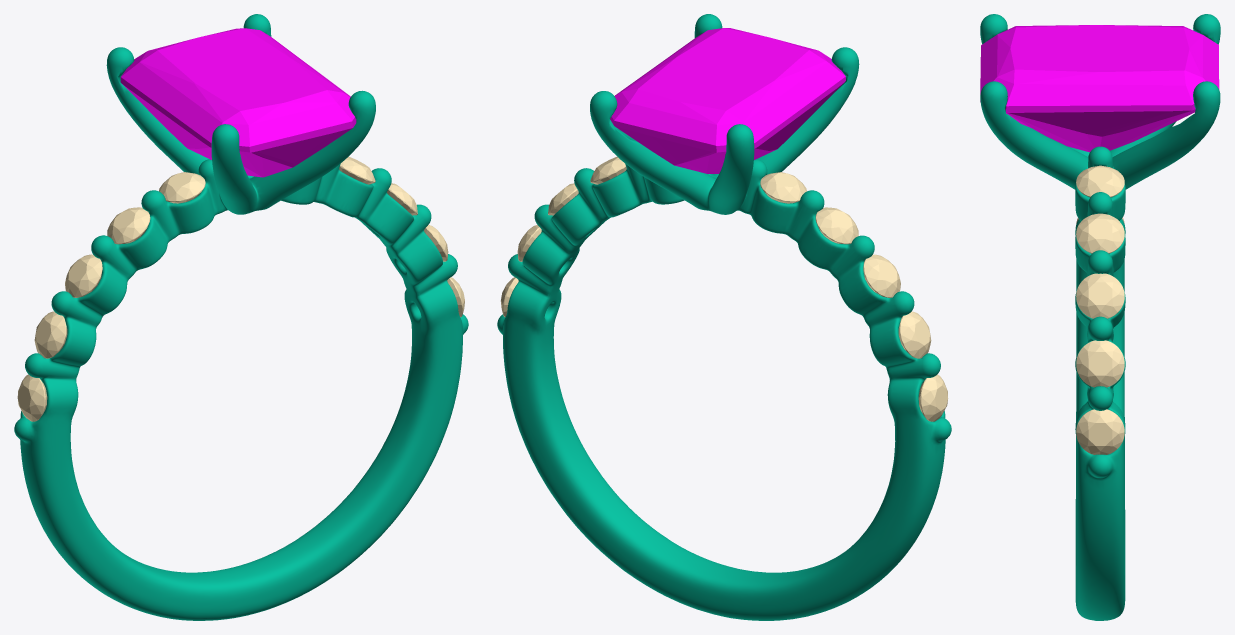
File: BE1D2001_RA_200ct_RENDER.glb
3 views of the same model, side by side, from view 1: azimuth 30°, elevation 25°; view 2: azimuth 150°, elevation 25°; view 3: azimuth 270°, elevation 25° (orthographic).
Visible parts, largest first — view 1: Metal 01, CS_Diamond_Radiant, Diamond_Round_Gem_SH.007, Diamond_Round_Gem_SH.006, Diamond_Round_Gem_SH.008, Diamond_Round_Gem_SH.009, Diamond_Round_Gem_SH.005; view 2: Metal 01, CS_Diamond_Radiant, Diamond_Round_Gem_SH.007, Diamond_Round_Gem_SH.008, Diamond_Round_Gem_SH.006, Diamond_Round_Gem_SH.009, Diamond_Round_Gem_SH.005; view 3: Metal 01, CS_Diamond_Radiant, Diamond_Round_Gem_SH.001, Diamond_Round_Gem_SH, Diamond_Round_Gem_SH.002, Diamond_Round_Gem_SH.003, Diamond_Round_Gem_SH.004.
Boxes of the visible parts, x1,y1,x2,y2 form: Metal 01: (14,14,468,620); CS_Diamond_Radiant: (120,28,356,177); Diamond_Round_Gem_SH.007: (65,254,102,297); Diamond_Round_Gem_SH.006: (34,311,67,358); Diamond_Round_Gem_SH.008: (107,207,150,244); Diamond_Round_Gem_SH.009: (159,172,205,203); Diamond_Round_Gem_SH.005: (17,374,47,421); Metal 01: (497,14,951,620); CS_Diamond_Radiant: (610,28,845,173); Diamond_Round_Gem_SH.007: (863,254,900,297); Diamond_Round_Gem_SH.008: (815,207,858,244); Diamond_Round_Gem_SH.006: (898,311,931,358); Diamond_Round_Gem_SH.009: (760,172,806,203); Diamond_Round_Gem_SH.005: (918,374,948,421); Metal 01: (980,14,1220,620); CS_Diamond_Radiant: (980,25,1219,152); Diamond_Round_Gem_SH.001: (1076,340,1124,387); Diamond_Round_Gem_SH: (1076,409,1124,454); Diamond_Round_Gem_SH.002: (1076,273,1124,318); Diamond_Round_Gem_SH.003: (1076,213,1124,253); Diamond_Round_Gem_SH.004: (1076,165,1124,197).
Bounding box in the file's own units: 21.08 × 24.22 × 9.62.
